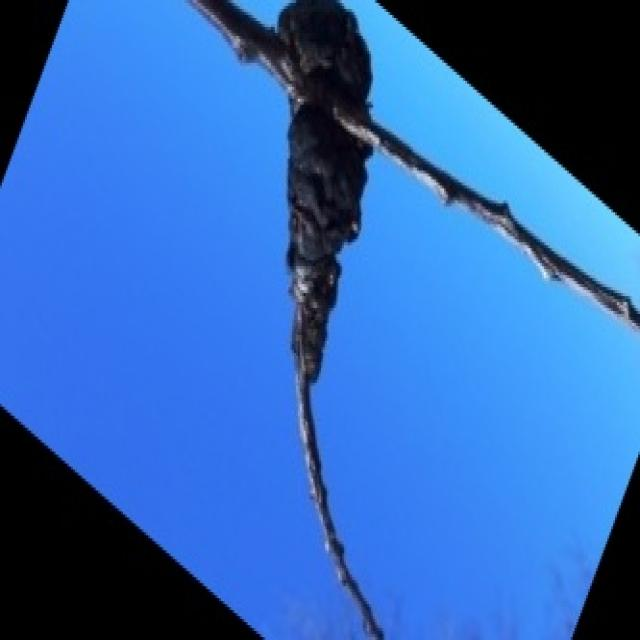Black_knot: (0, 0, 638, 637), (271, 0, 379, 402)
